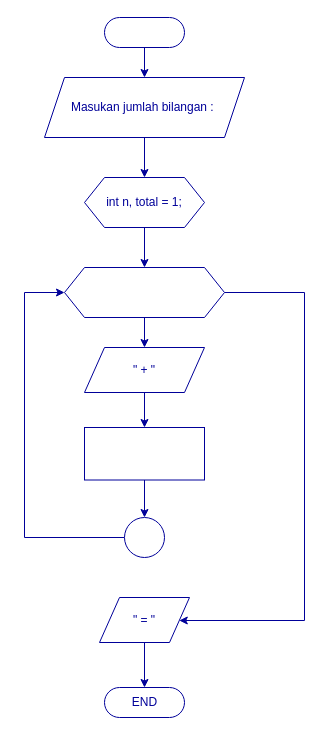
Image size: 330x735. Some labels were removed from this diagram. The shapes that lost their labels are listed below. From the top down, each one's box as (x1, y1, x2, y2) in pixels, then its label:
(104, 16, 184, 48): START
(64, 266, 224, 318): for (int i = 2; i <= n; i++)
(84, 426, 204, 480): total = total + i
